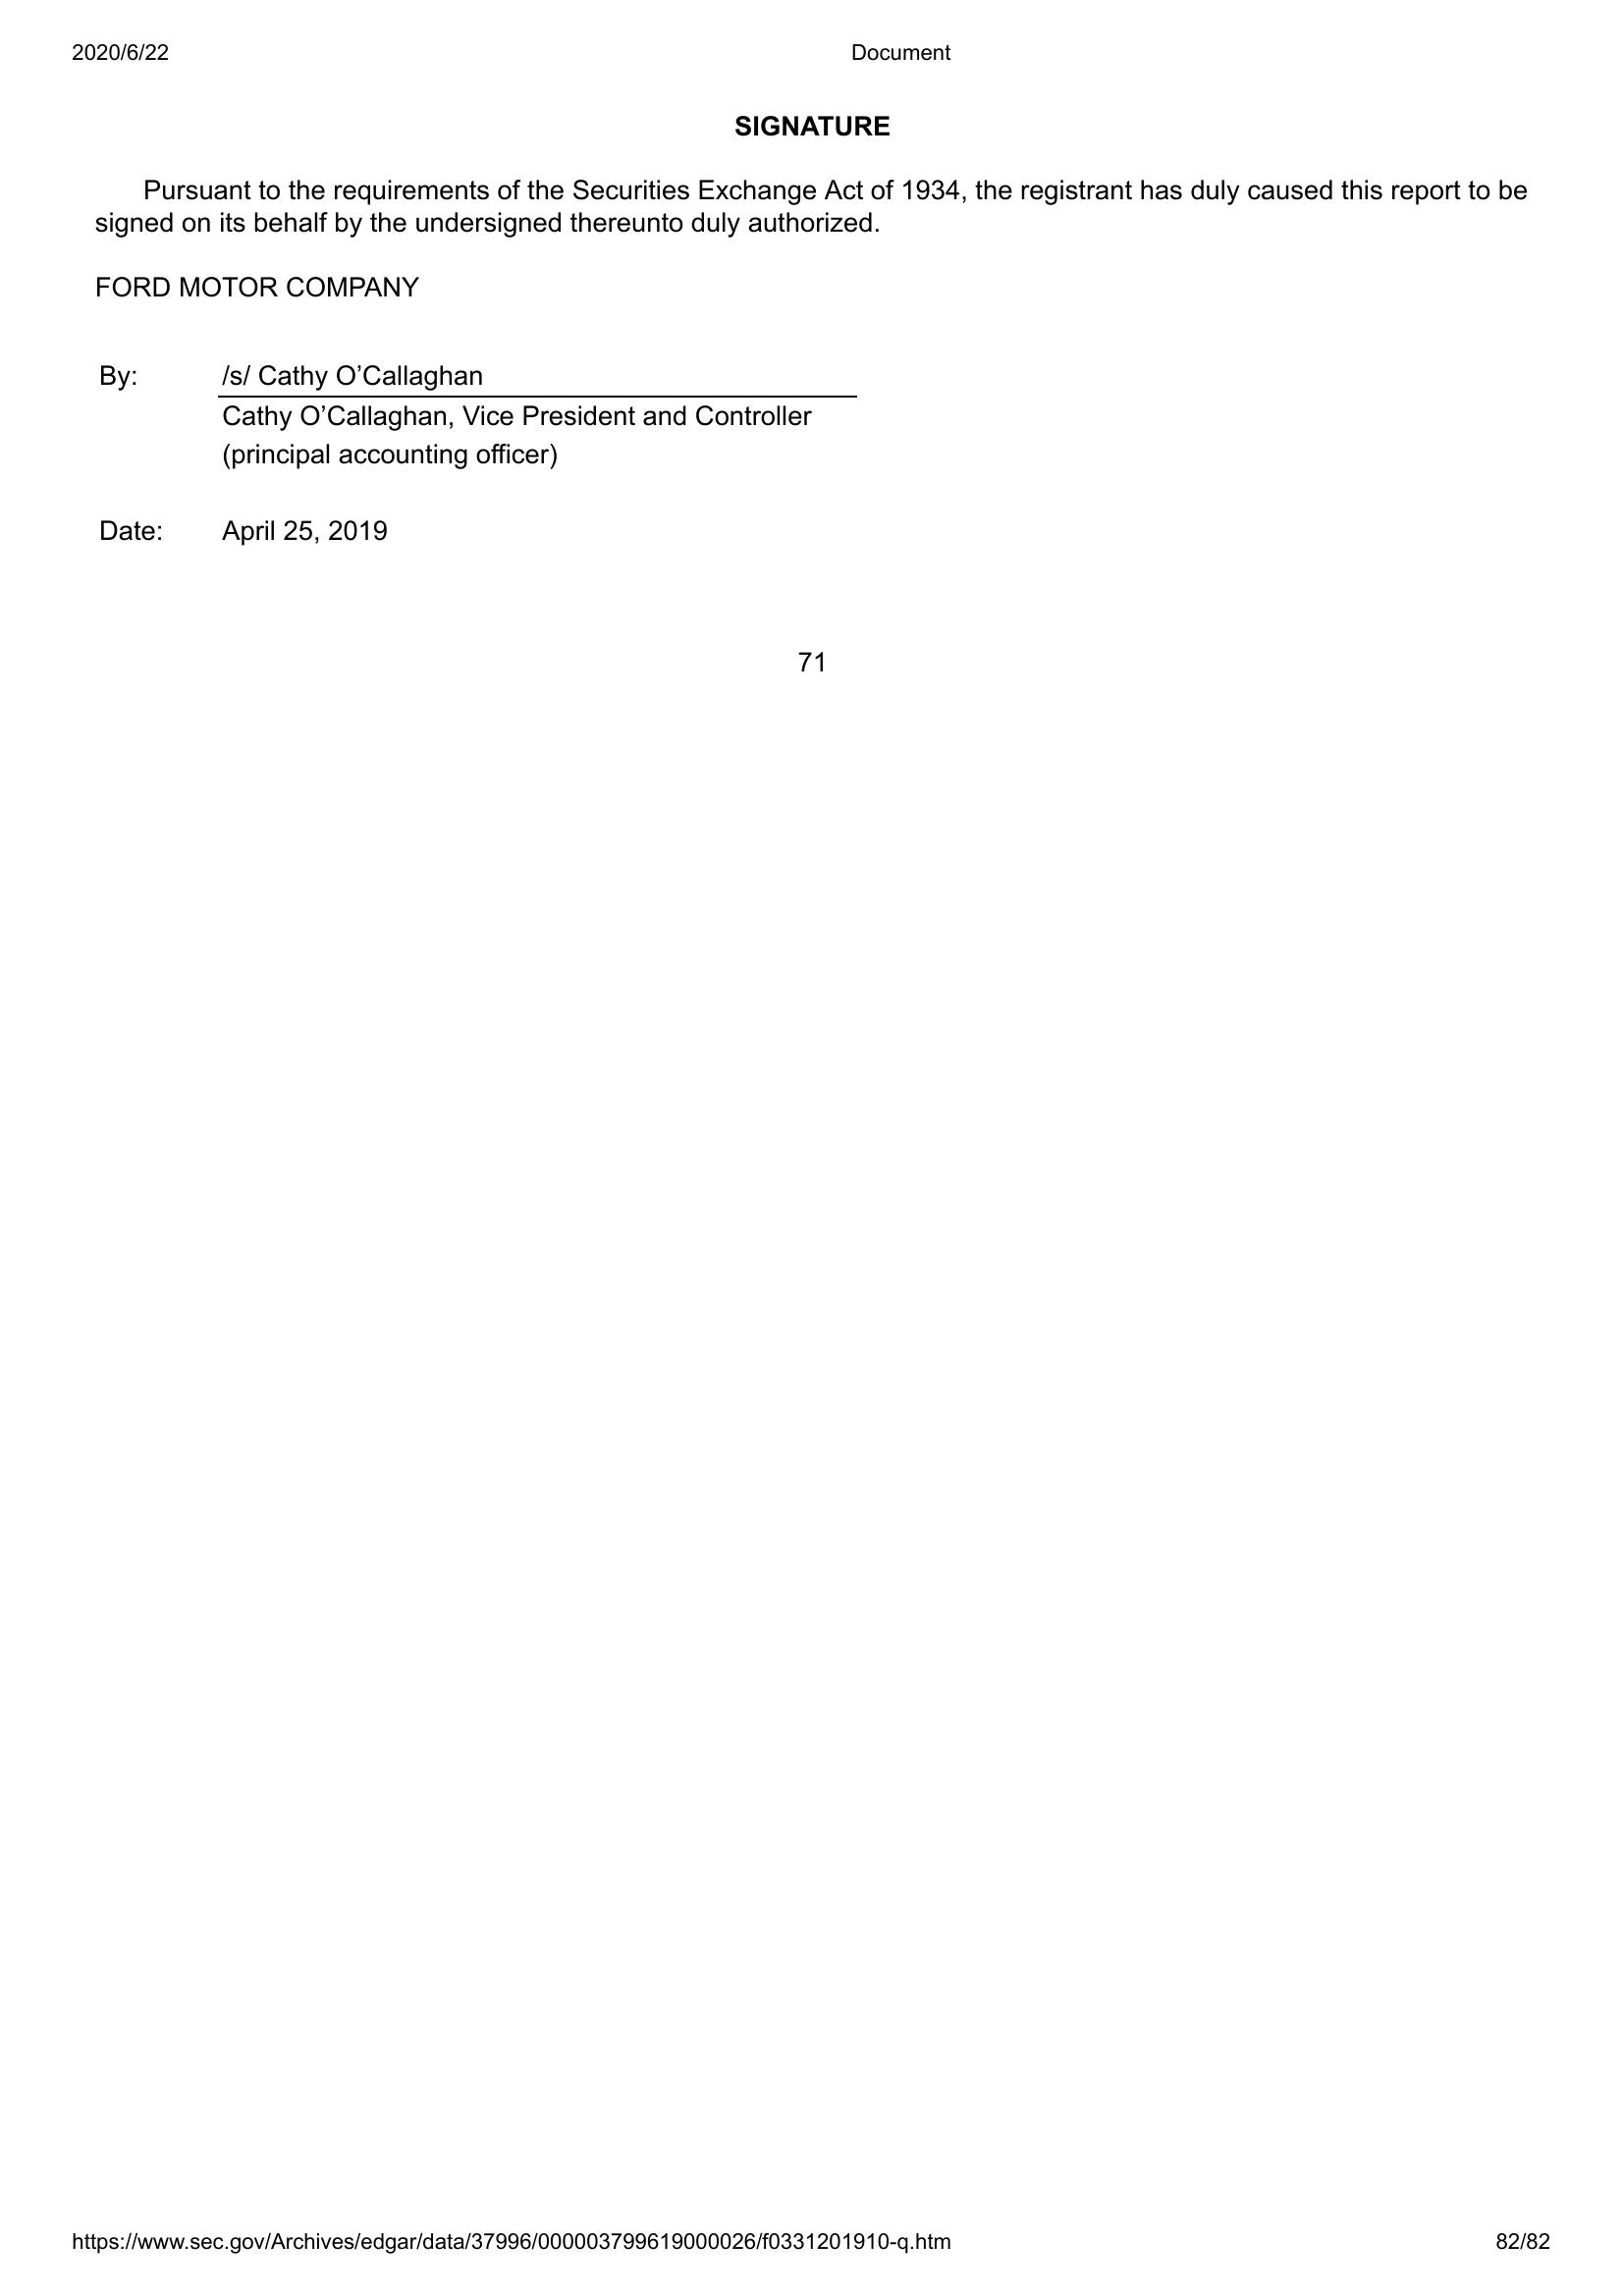table: (91, 348, 862, 546)
